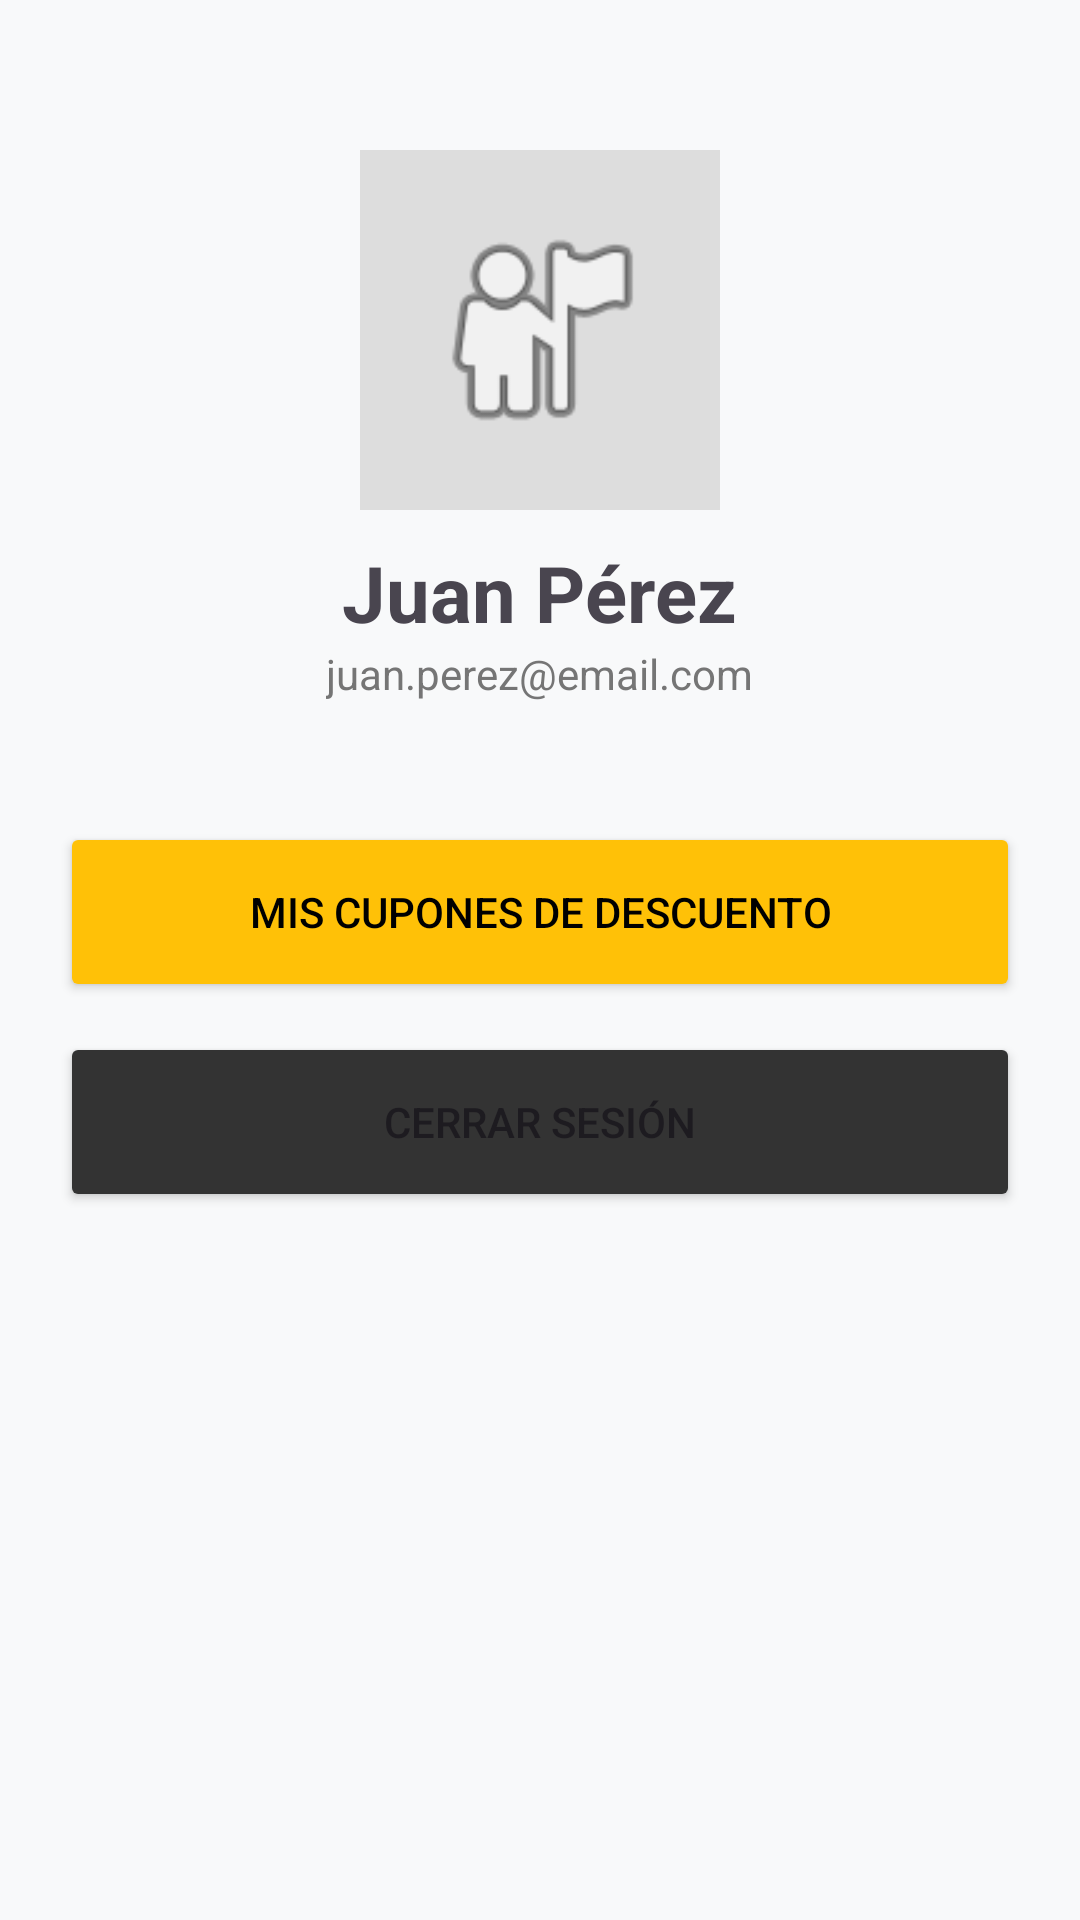

Named icons in this screenshot (1080 × 1920) and their centers, [x,y]:
myplaces: [540,330]
